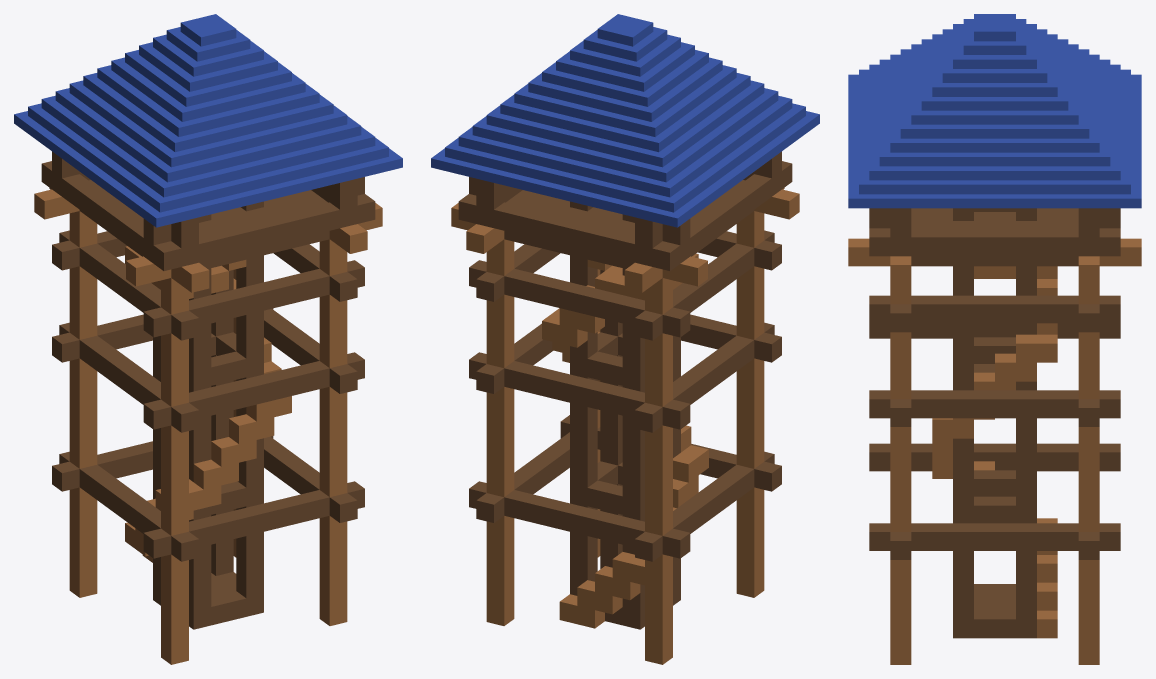
The model's file is WoodenTower1.obj.
3 renders of one model, left to right at view 1: azimuth 30°, elevation 25°; view 2: azimuth 150°, elevation 25°; view 3: azimuth 270°, elevation 25°, orthographic. The views are drawn at different scales.
Visible parts, largest first — view 1: WoodenTower1; view 2: WoodenTower1; view 3: WoodenTower1.
Part boxes in pixels (<box>): WoodenTower1: <box>14,14,402,664</box>; WoodenTower1: <box>431,14,819,664</box>; WoodenTower1: <box>848,14,1141,664</box>.
Size of the model in its own units: 2.8 by 6.3 by 2.8.
1 material, 1 textured.
